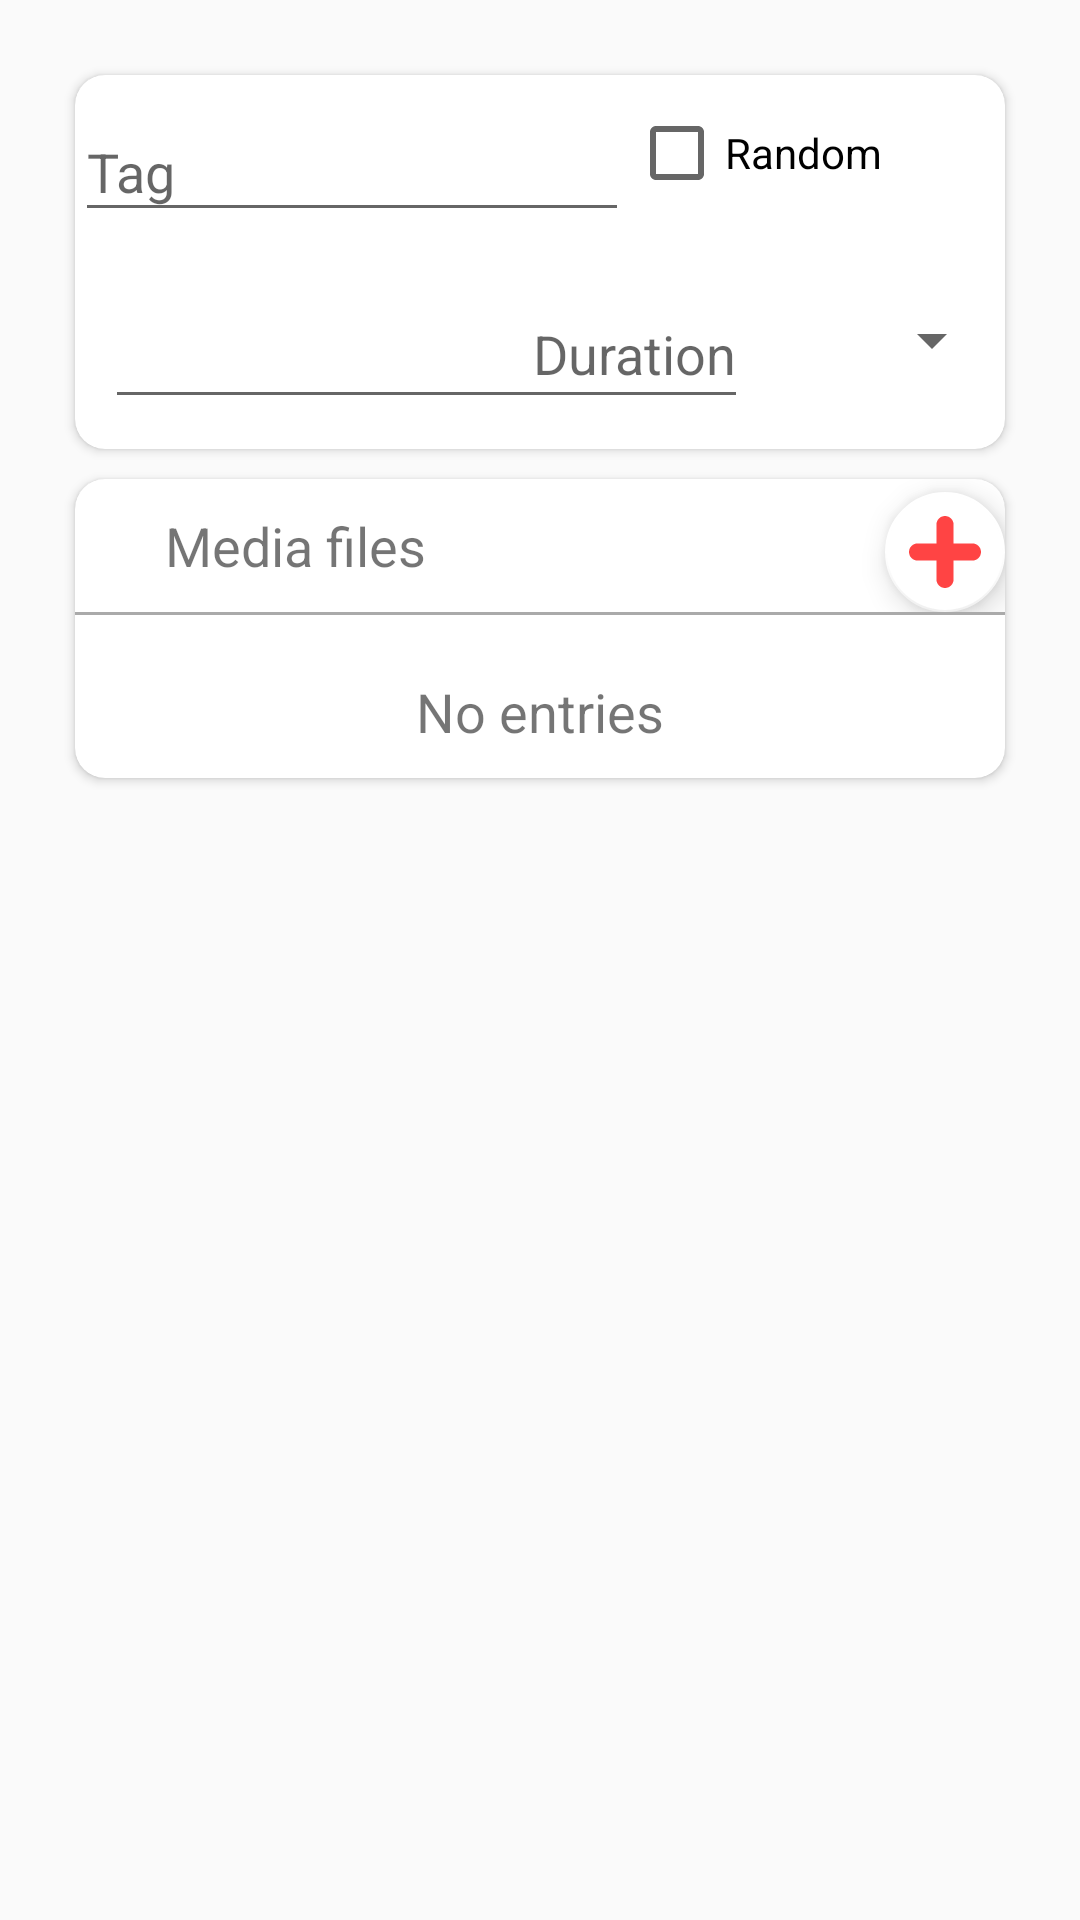

Where icons sit on this 1080px×1920px app screen, as (x1, y1, x2, y2):
Add group: (909, 516, 981, 605)
